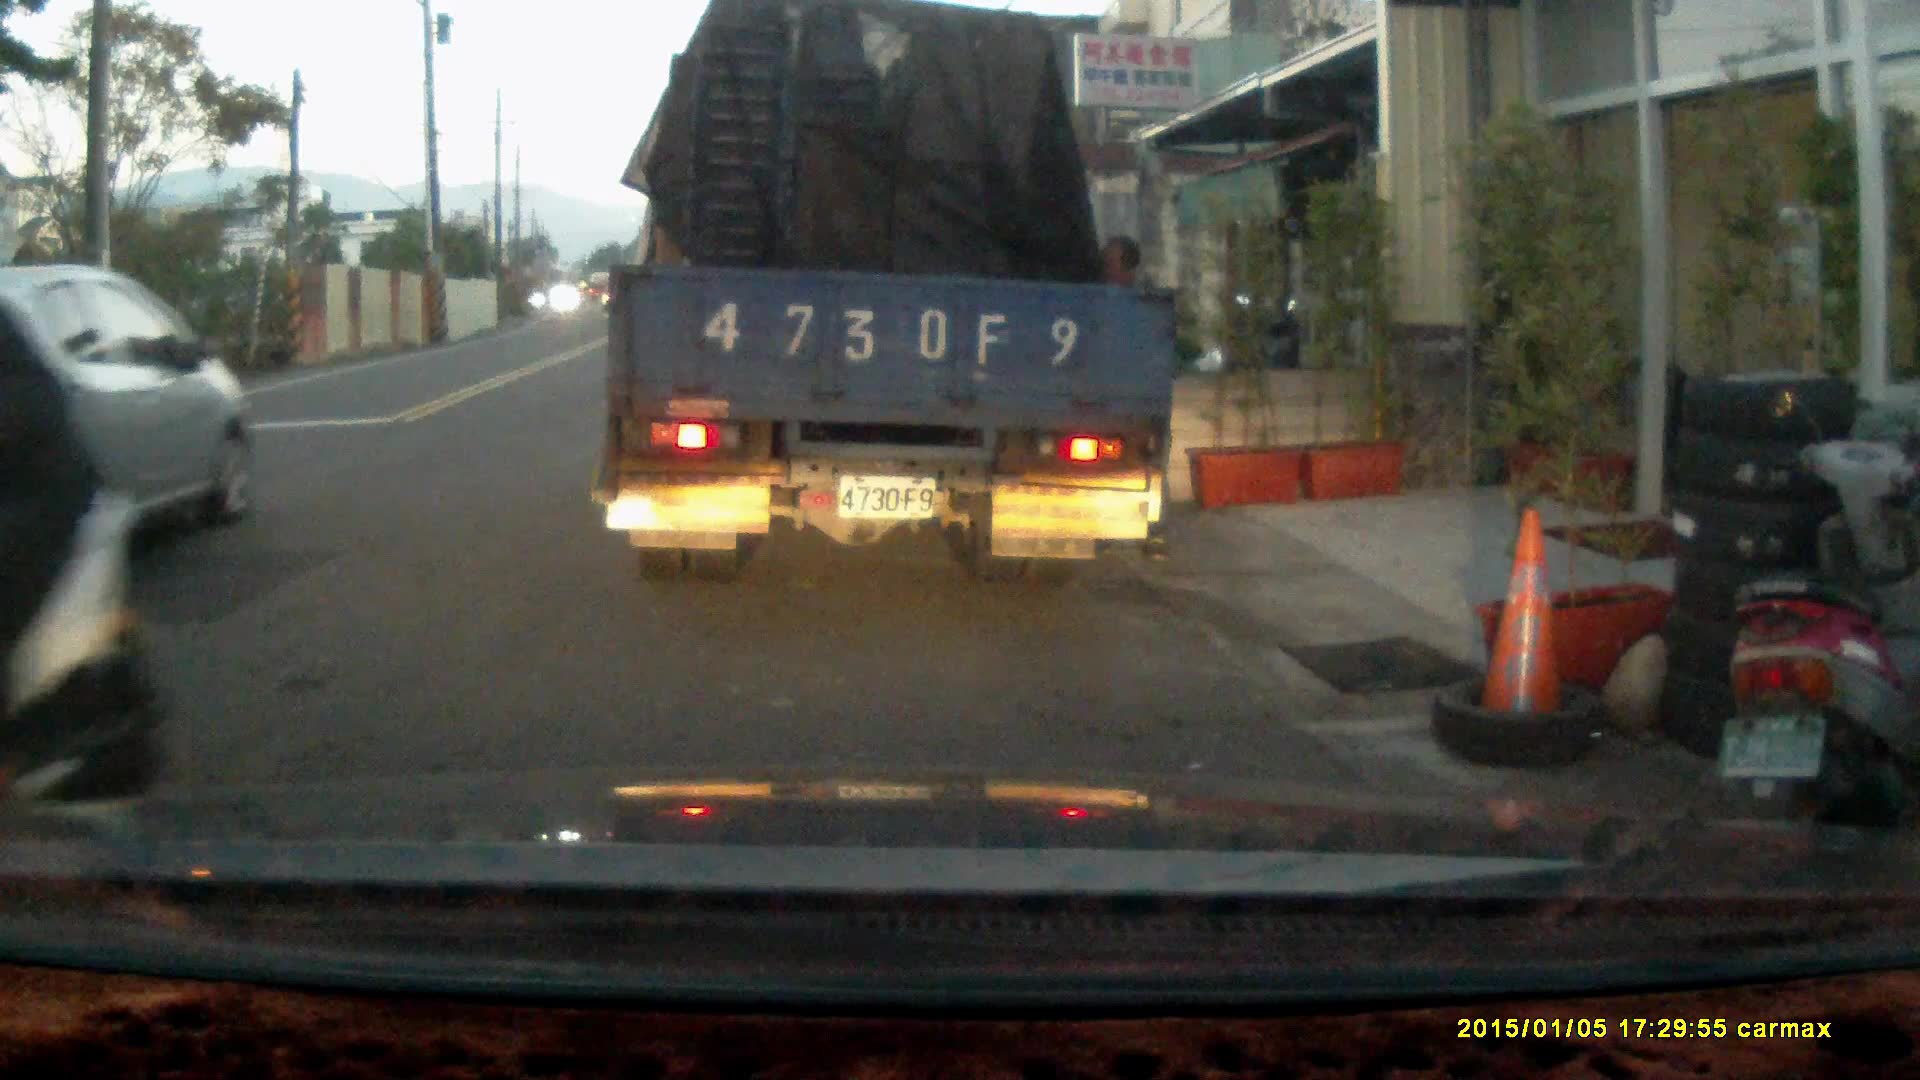pedestrian: (1083, 234, 1184, 567)
rider: (0, 295, 175, 915)
vehicle: (600, 23, 1185, 572), (2, 261, 248, 538)
